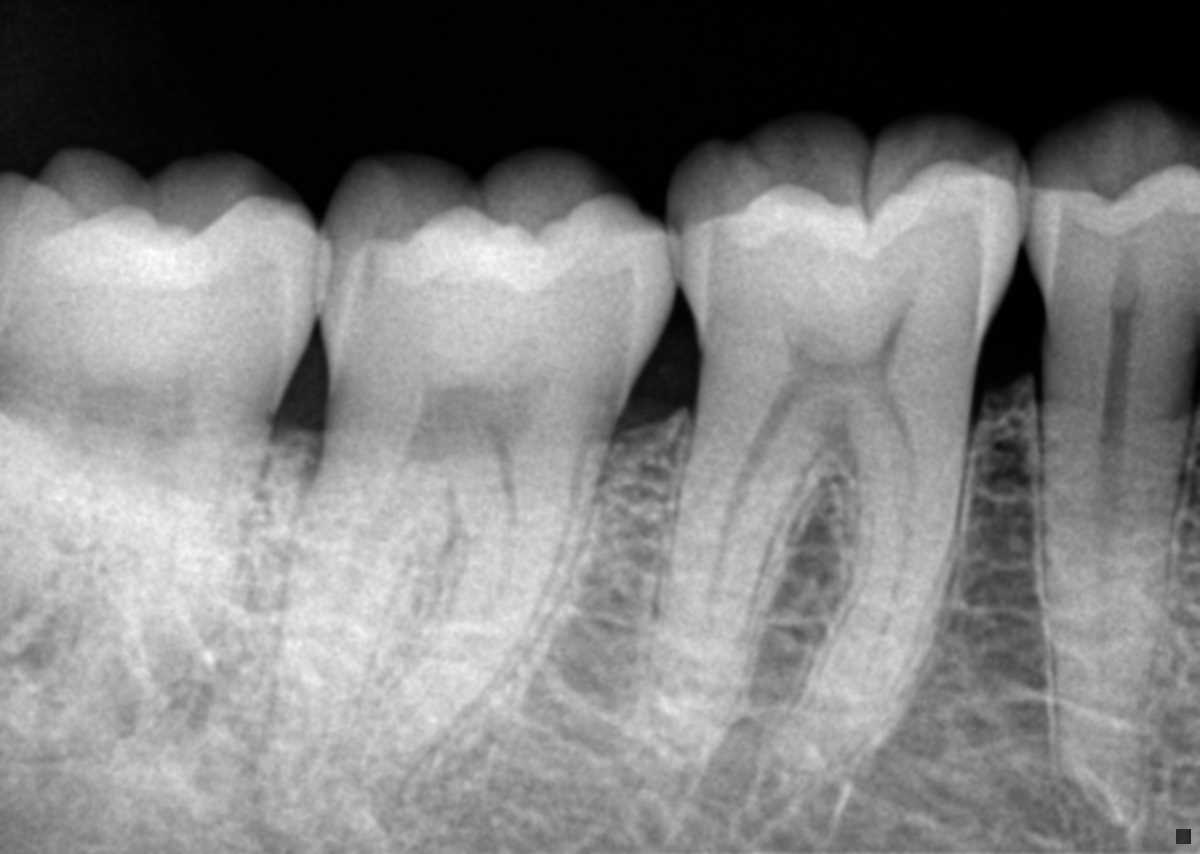Distal Canal: (310, 453, 434, 680), (708, 412, 791, 642)
Distal Root: (266, 422, 447, 797), (643, 404, 825, 758), (0, 430, 100, 636)
Main Canal: (1091, 407, 1127, 727)
Main Root: (1034, 395, 1197, 832)
Mesial Canal: (459, 448, 521, 661), (865, 413, 913, 679)
Mesial Root: (767, 393, 974, 775), (377, 434, 611, 764), (0, 473, 259, 765)
